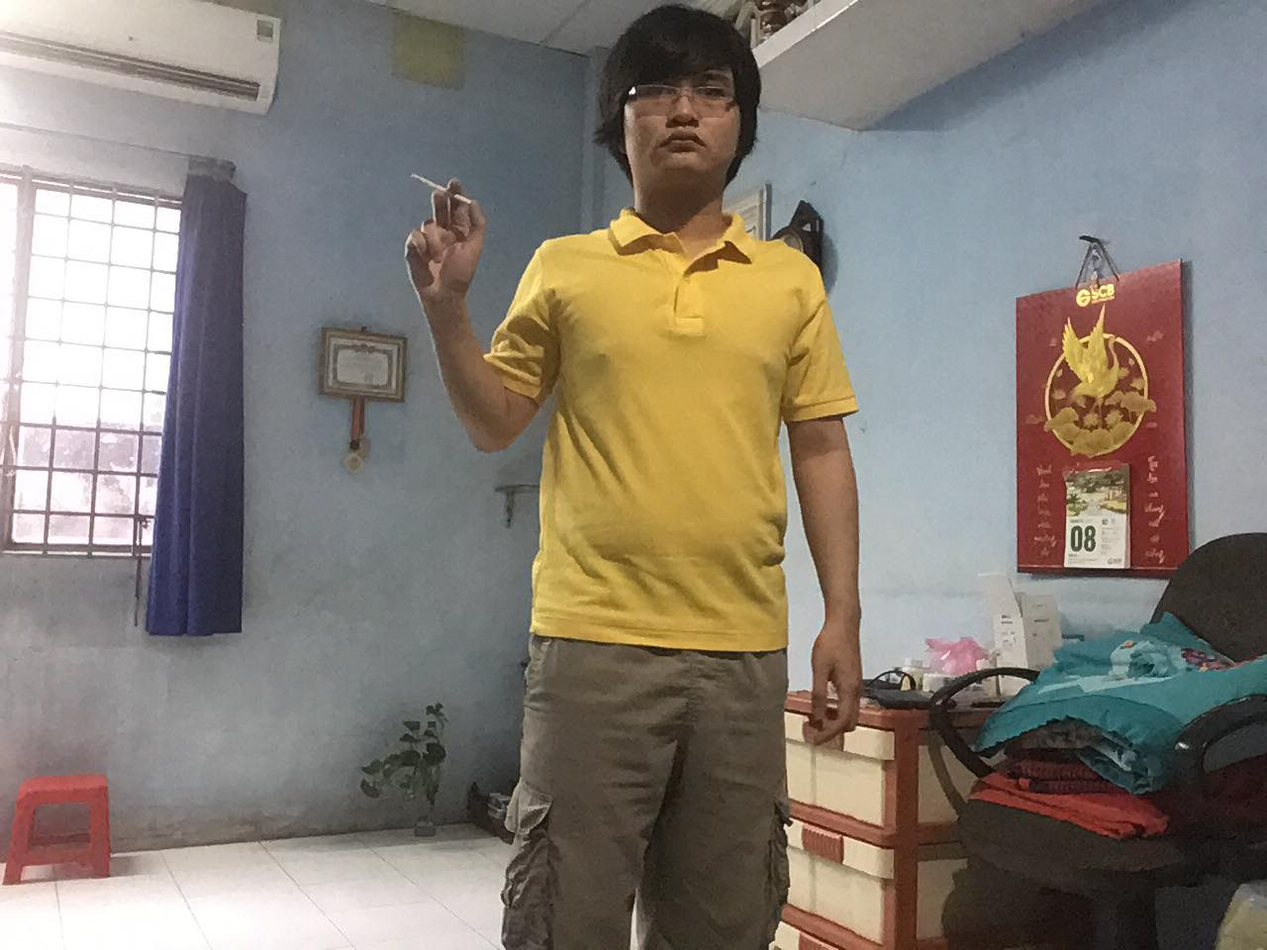cigarette: (405, 169, 447, 193)
person: (418, 44, 875, 947)
